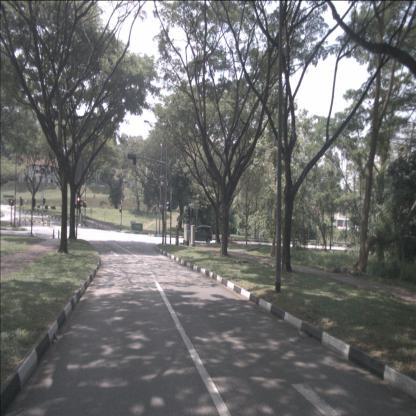vehicle-car: (190, 225, 213, 243)
